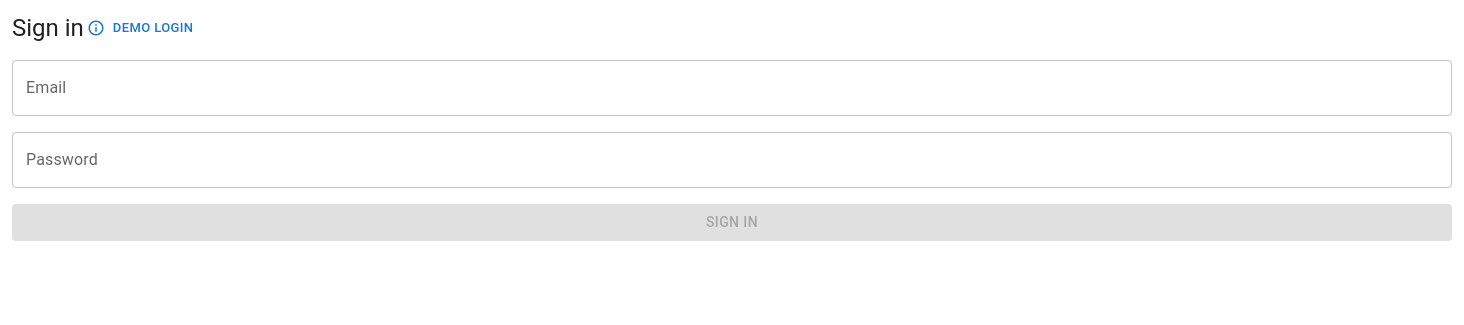
Test: LoginForm › shows a generic alert when login rejects with INVALID_CREDENTIALS
Type "user@example.com" into the field labelled "Email" at (732, 88), box [12, 60, 1452, 116]
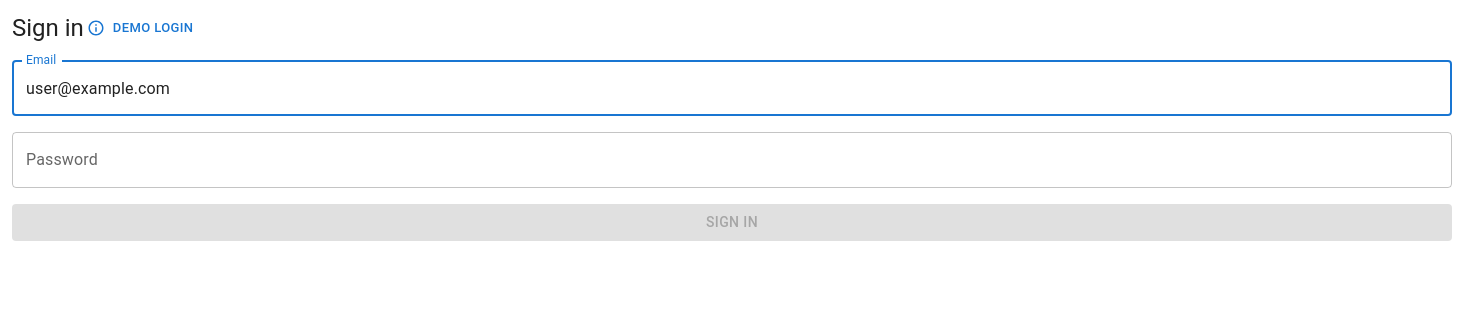
Type "wrong-password" into the password field labelled "Password" at (732, 160), box [12, 132, 1452, 188]
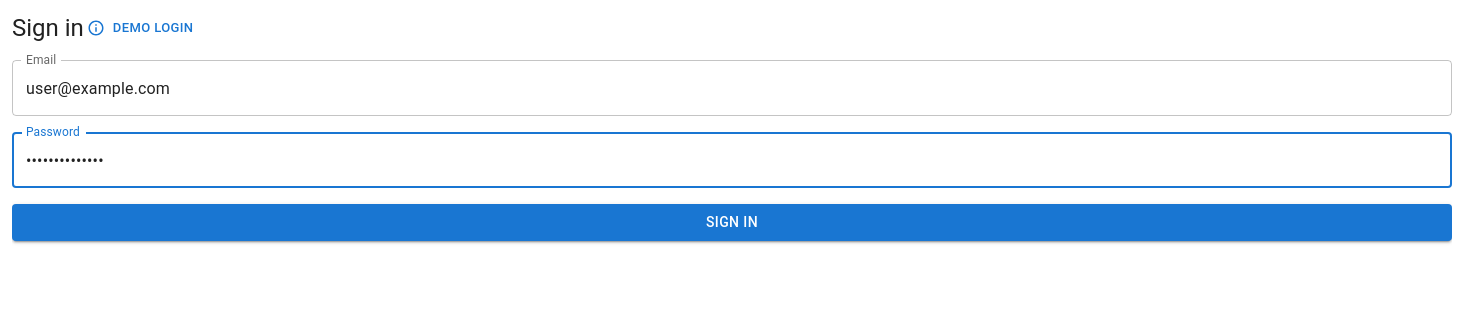
Click the button "Sign in" at (732, 222), box [12, 204, 1452, 240]
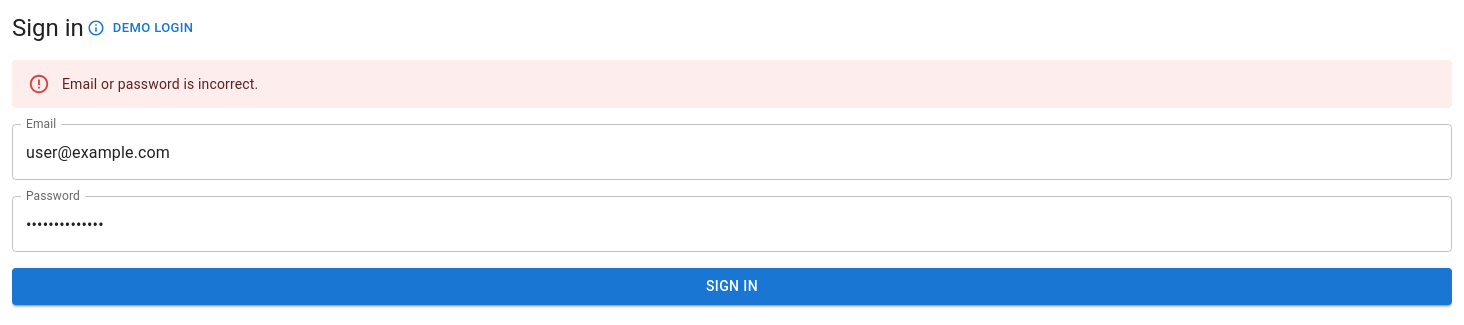
Check: the text "Email or password is incorrect." is shown, box [62, 76, 258, 92]
